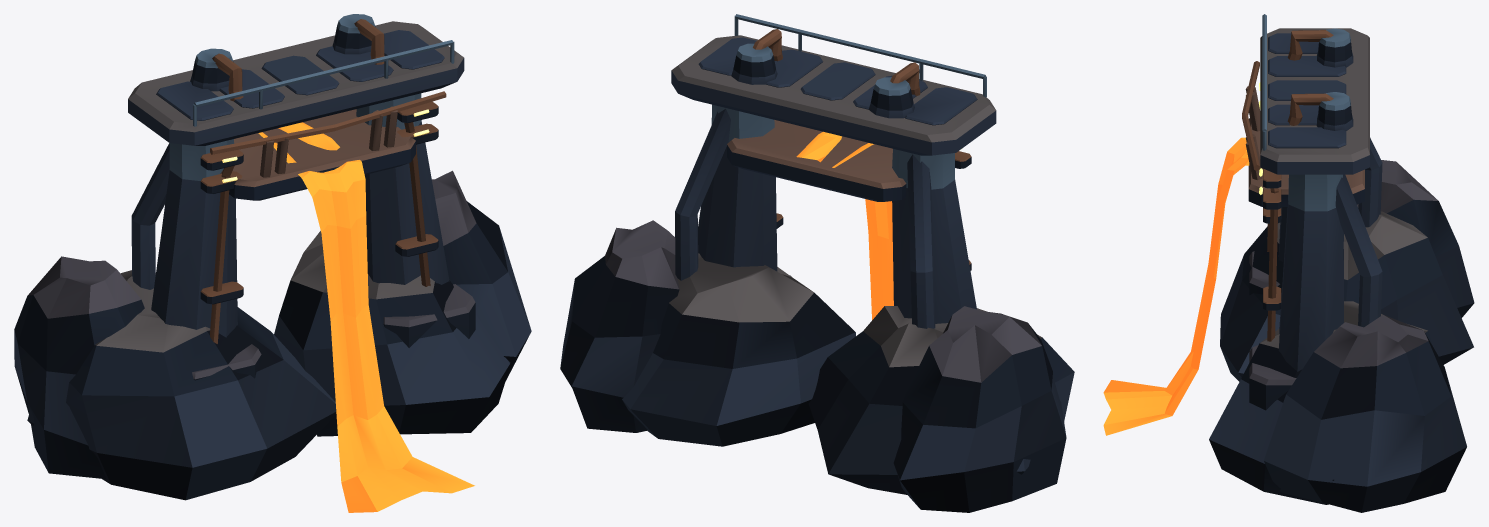
File: forge-spillway.glb
3 renders of one model, left to right at view 1: azimuth 30°, elevation 25°; view 2: azimuth 150°, elevation 25°; view 3: azimuth 270°, elevation 25°, orthographic. The views are drawn at different scales.
Visible parts, largest first — view 1: forge-spillway; view 2: forge-spillway; view 3: forge-spillway.
Part boxes in pixels (x1=…): forge-spillway: x1=14, y1=14, x2=531, y2=512; forge-spillway: x1=560, y1=14, x2=1074, y2=512; forge-spillway: x1=1103, y1=14, x2=1474, y2=512.
Bounding box in the file's own units: 12.47 × 9.21 × 8.8.
